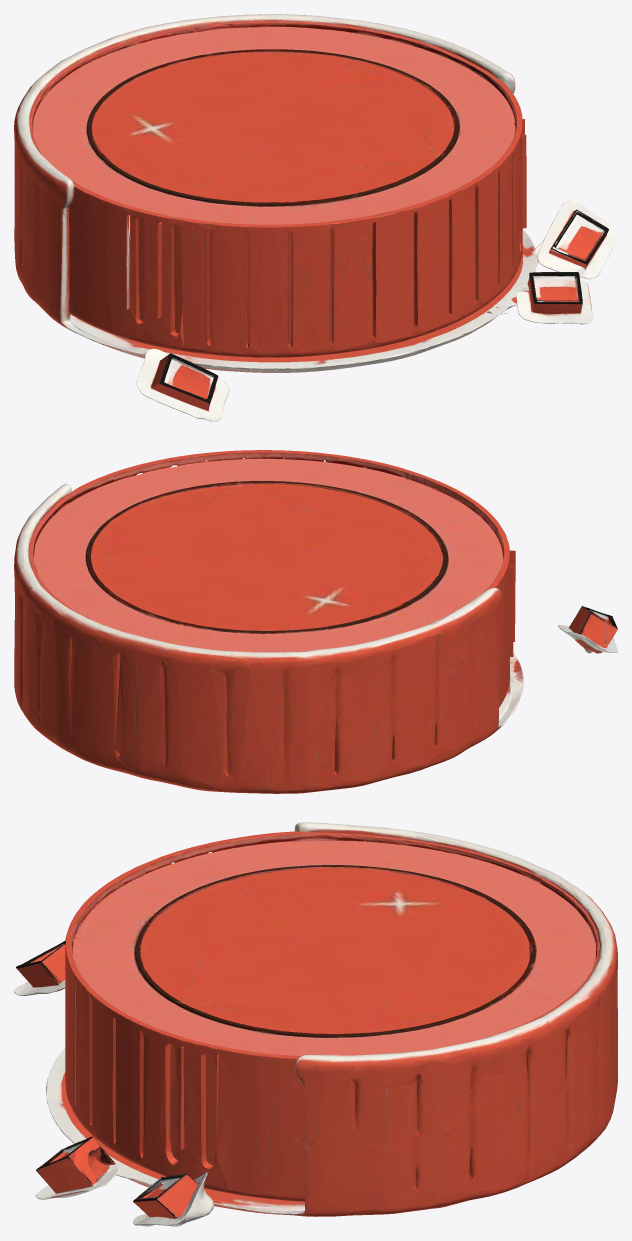
The model's file is tapa.glb.
The picture shows the model from 3 angles, top to bottom: view 1: azimuth 30°, elevation 25°; view 2: azimuth 150°, elevation 25°; view 3: azimuth 270°, elevation 25°; orthographic projection. The views are drawn at different scales.
Size of the model in its own units: 1.9 by 0.5333 by 1.77.
1 material, 1 textured.
